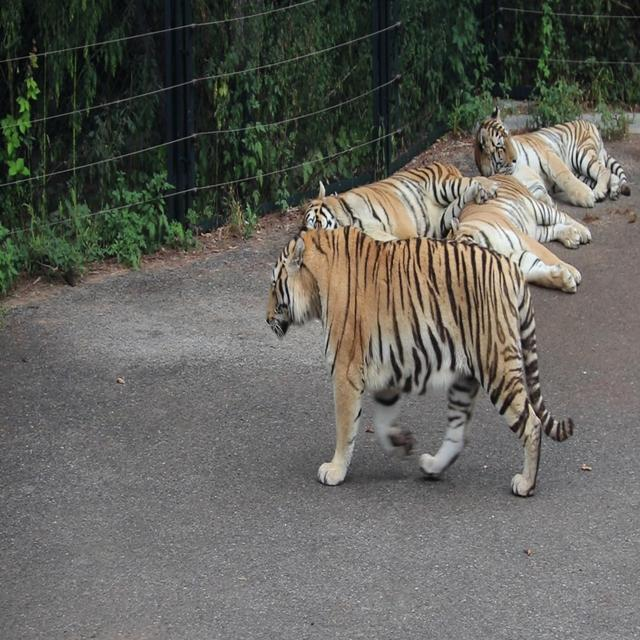tiger: (265, 224, 574, 497), (298, 159, 501, 456), (442, 166, 592, 293), (299, 159, 500, 241), (472, 105, 630, 208)
